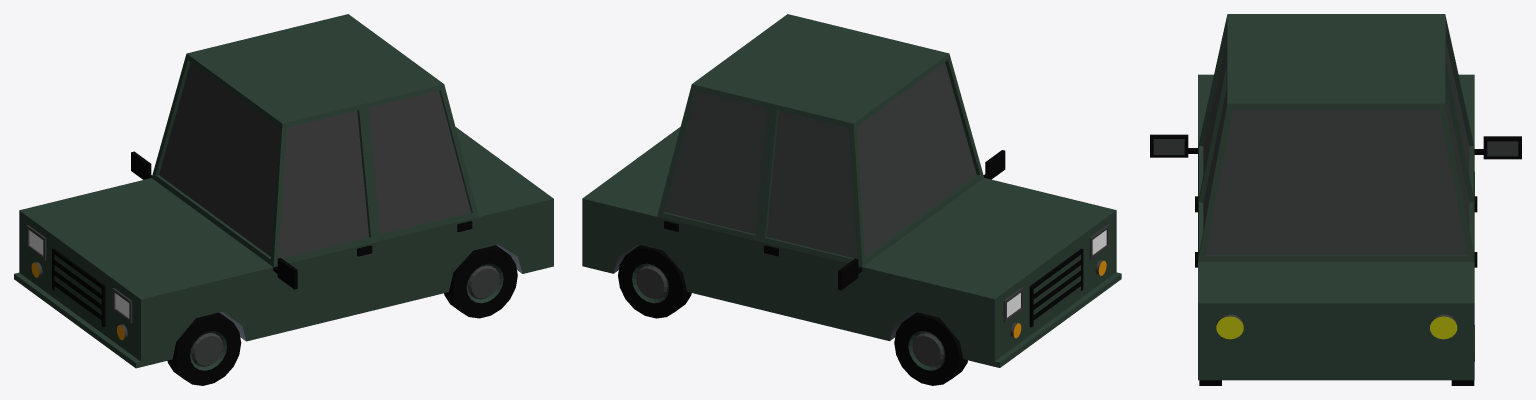
The model's file is car4F.FBX.
3 views of the same model, side by side, from view 1: azimuth 30°, elevation 25°; view 2: azimuth 150°, elevation 25°; view 3: azimuth 270°, elevation 25° (orthographic). The views are drawn at different scales.
Visible parts, largest first — view 1: car4F; view 2: car4F; view 3: car4F.
Boxes of the visible parts, <box> form: car4F: <box>14,14,553,385</box>; car4F: <box>582,14,1121,385</box>; car4F: <box>1150,14,1521,385</box>.
Size of the model in its own units: 9.78 by 5.11 by 6.58.
